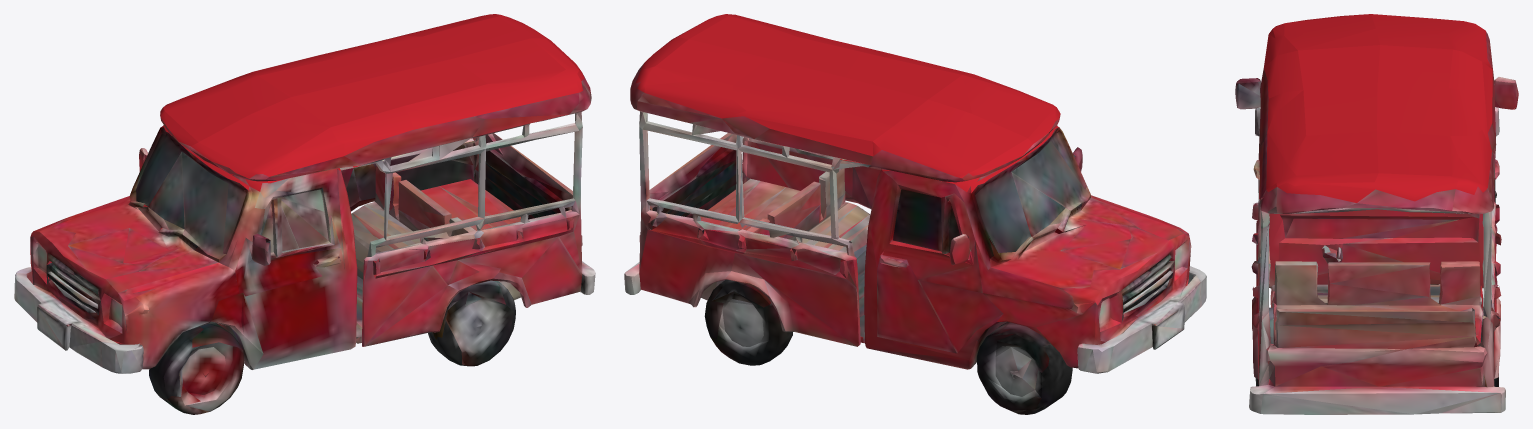
The model's file is songthaew.glb.
The picture shows the model from 3 angles, left to right: view 1: azimuth 30°, elevation 25°; view 2: azimuth 150°, elevation 25°; view 3: azimuth 270°, elevation 25°; orthographic projection. The views are drawn at different scales.
Parts seen in each view (by area): view 1: Mesh_0.8469; view 2: Mesh_0.8469; view 3: Mesh_0.8469.
Part boxes in pixels (box(x1,y1,x2,y2)): Mesh_0.8469: box(14, 14, 595, 414); Mesh_0.8469: box(624, 14, 1206, 414); Mesh_0.8469: box(1235, 14, 1518, 414).
Bounding box in the file's own units: 4.44 × 2.2 × 1.95.
2 materials, 1 textured.
